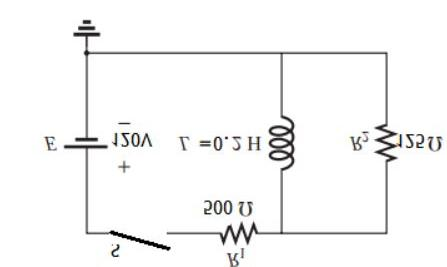inductor: (263, 102, 305, 176)
